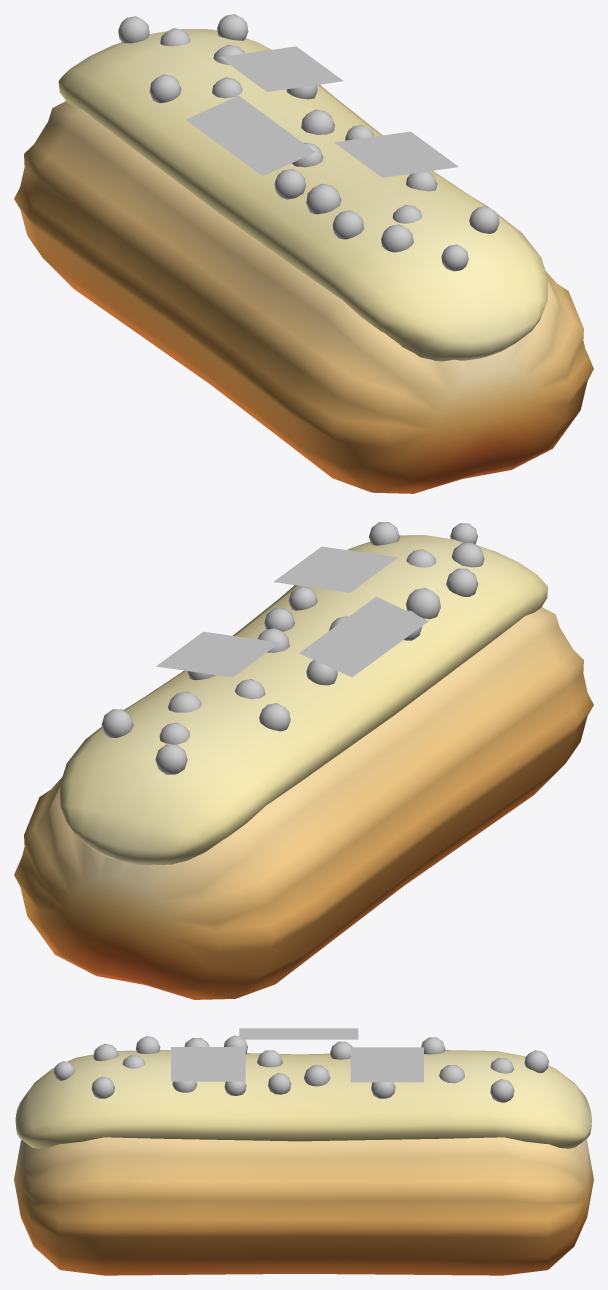
File: eclair_white.fbx
3 views of the same model, one above another, from view 1: azimuth 30°, elevation 25°; view 2: azimuth 150°, elevation 25°; view 3: azimuth 270°, elevation 25° (orthographic). The views are drawn at different scales.
Parts seen in each view (by area): view 1: eclair_white, chocolate_white, smile, balls; view 2: eclair_white, chocolate_white, smile, balls; view 3: eclair_white, chocolate_white, smile, balls.
Part boxes in pixels (bbox=[...]): eclair_white: bbox=[14, 101, 593, 493]; chocolate_white: bbox=[58, 29, 548, 361]; smile: bbox=[185, 46, 458, 177]; balls: bbox=[118, 14, 499, 271]; eclair_white: bbox=[14, 607, 593, 999]; chocolate_white: bbox=[59, 535, 547, 865]; smile: bbox=[156, 546, 428, 677]; balls: bbox=[101, 522, 484, 774]; eclair_white: bbox=[14, 1137, 593, 1275]; chocolate_white: bbox=[15, 1050, 591, 1148]; smile: bbox=[171, 1028, 423, 1082]; balls: bbox=[54, 1035, 548, 1102].
Bounding box in the file's own units: 23.17 × 19.64 × 51.8.
